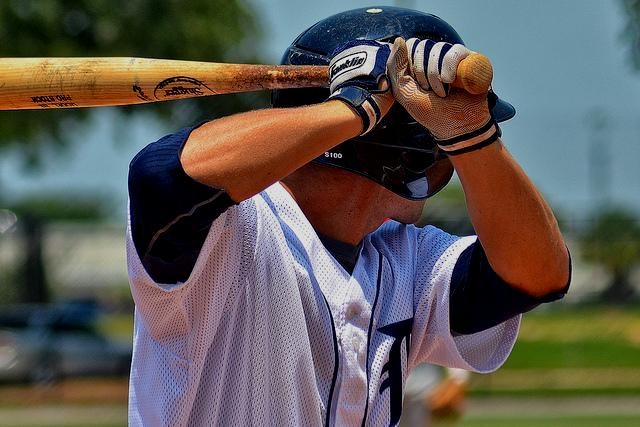bat: (1, 54, 332, 112)
